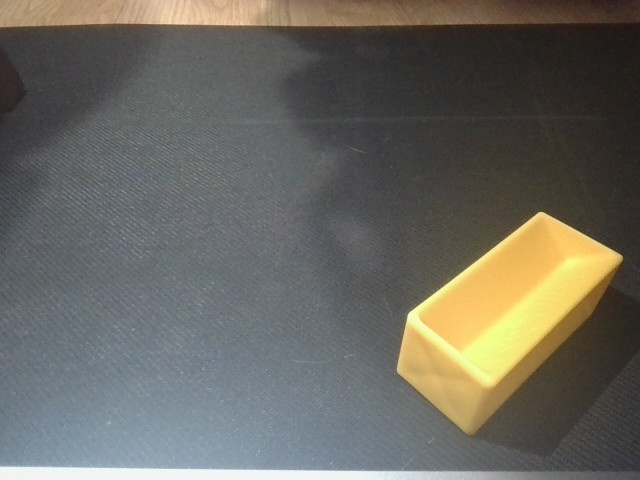YellowSample: (391, 203, 627, 439)
